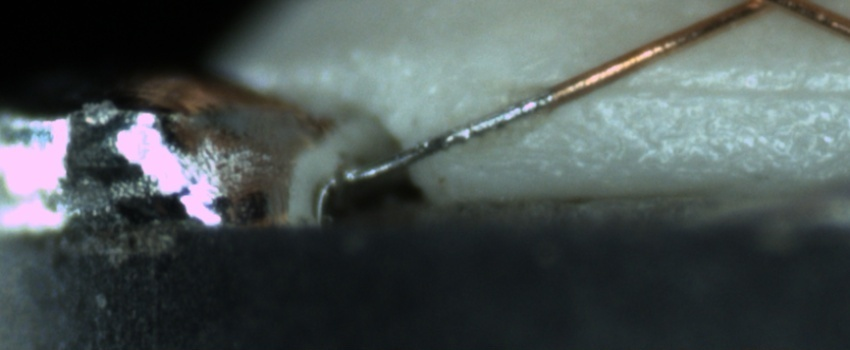CL: (732, 0, 817, 17)
DL: (495, 60, 849, 122)
TS: (333, 91, 554, 186)
TTCW: (334, 64, 616, 187)
